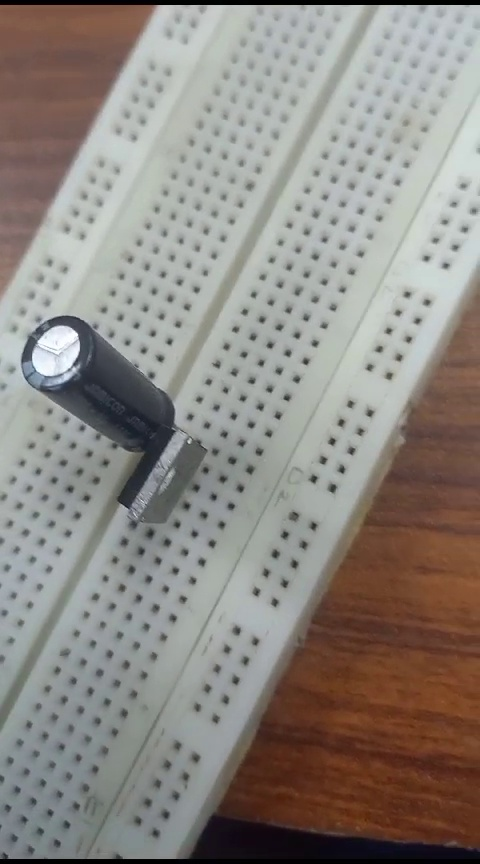capacitor: (23, 291, 174, 449)
voltage regulator: (126, 424, 203, 535)
